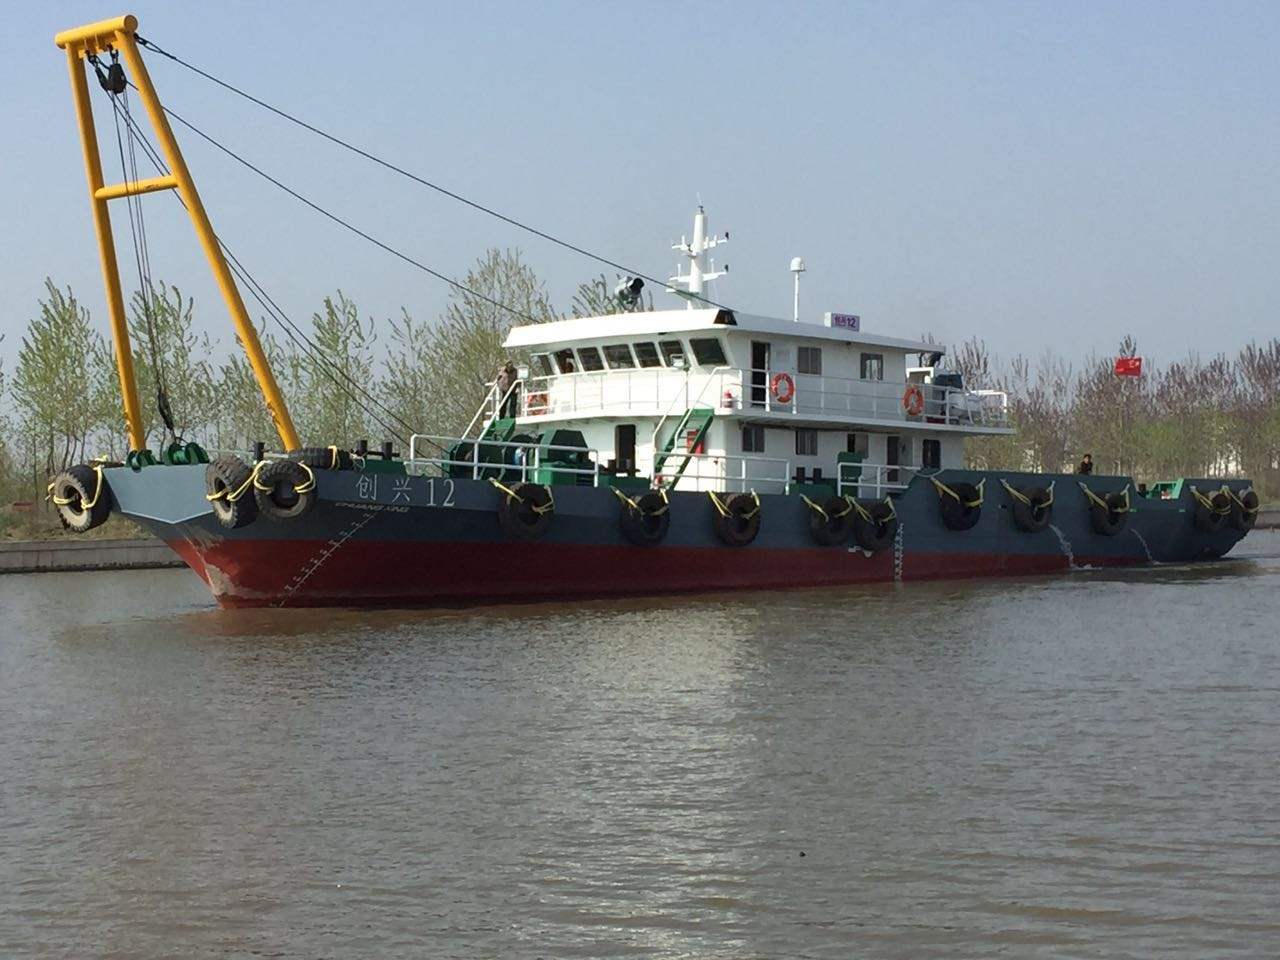otherboat: (62, 238, 1263, 604)
